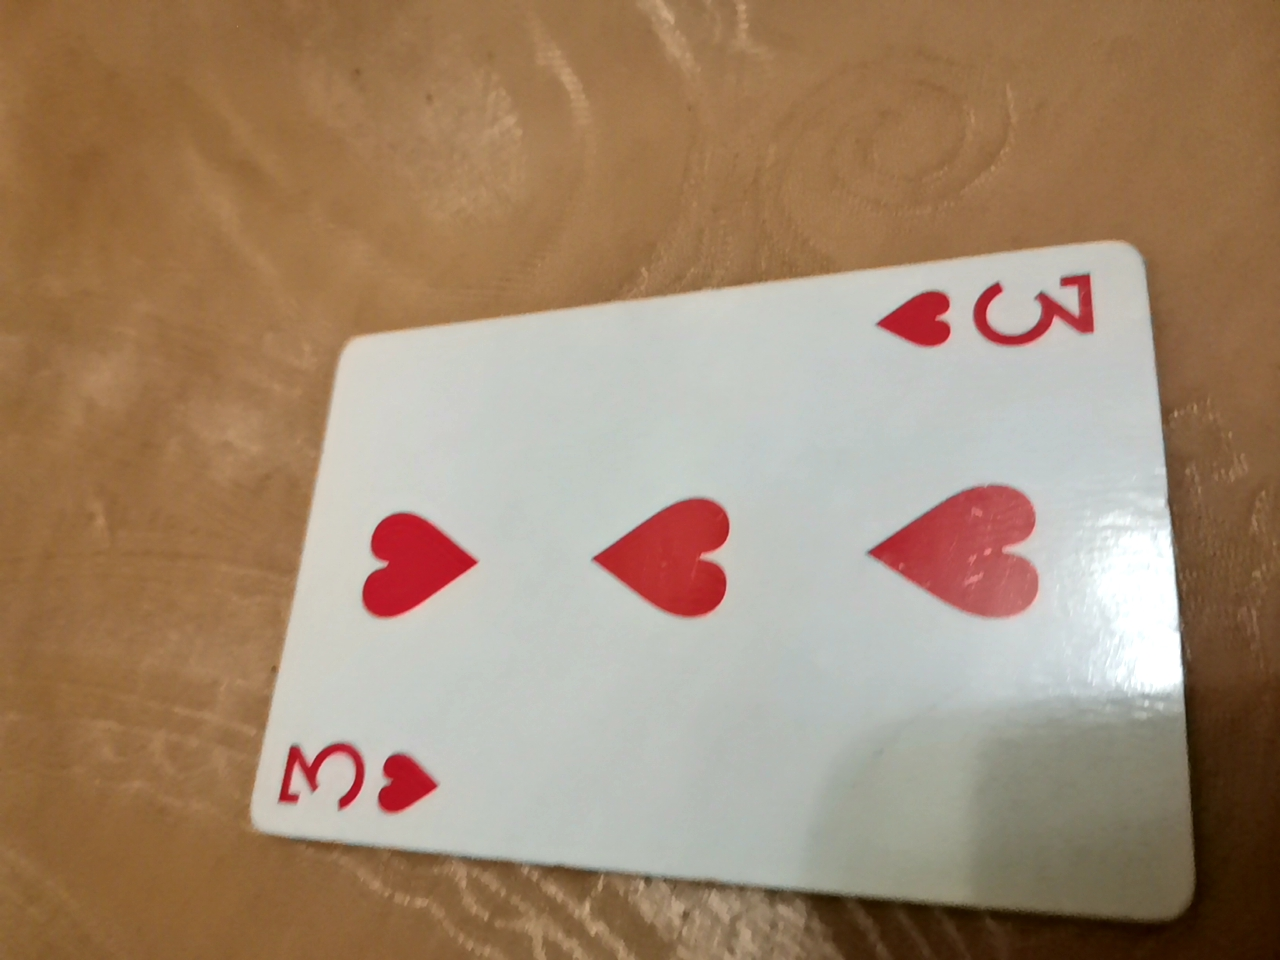hx 3: (244, 249, 1179, 928)
